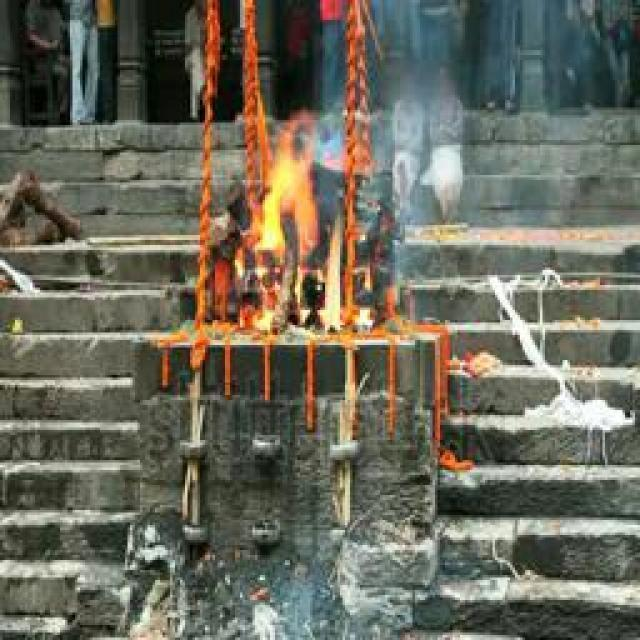Fire: (250, 120, 349, 339)
